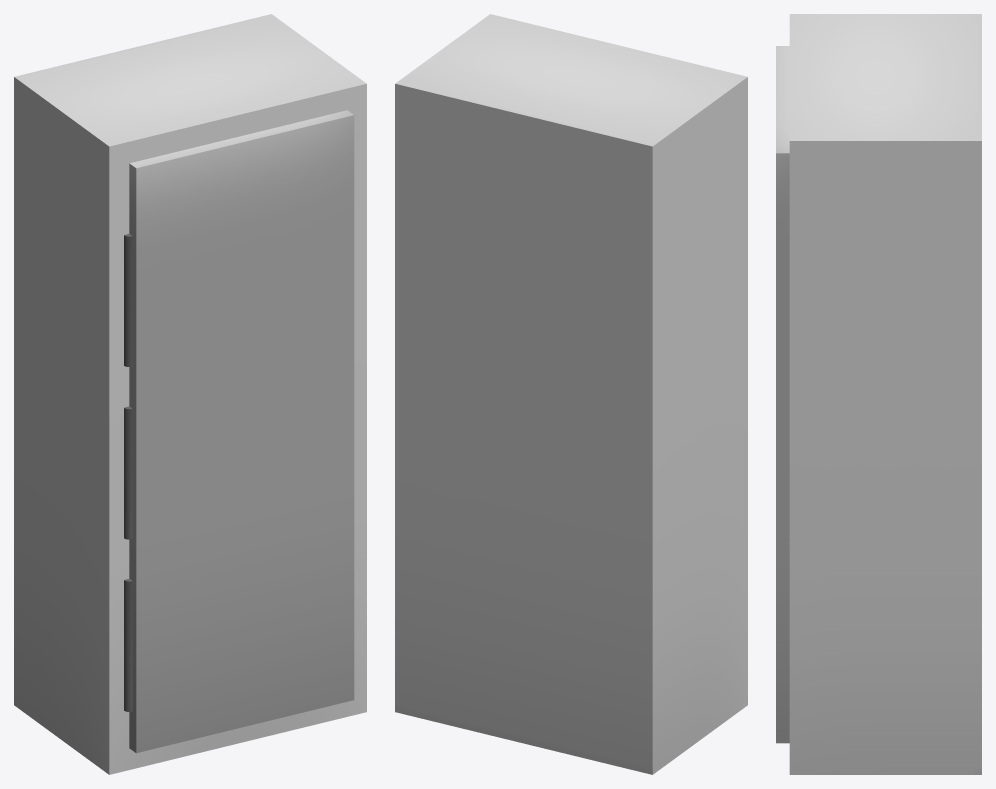
Rendered from Chest0.FBX.
The picture shows the model from 3 angles, left to right: view 1: azimuth 30°, elevation 25°; view 2: azimuth 150°, elevation 25°; view 3: azimuth 270°, elevation 25°; orthographic projection.
Visible parts, largest first — view 1: chestdoor0, chestbox0; view 2: chestbox0; view 3: chestbox0, chestdoor0.
Part boxes in pixels (left/top/right/bottom): chestdoor0: left=124, top=110, right=354, bottom=753; chestbox0: left=14, top=14, right=366, bottom=774; chestbox0: left=395, top=14, right=747, bottom=774; chestbox0: left=789, top=14, right=981, bottom=774; chestdoor0: left=776, top=46, right=789, bottom=743.
Size of the model in its own units: 25.96 by 60.52 by 17.81.
Materials: 2 (2 with a texture image).
